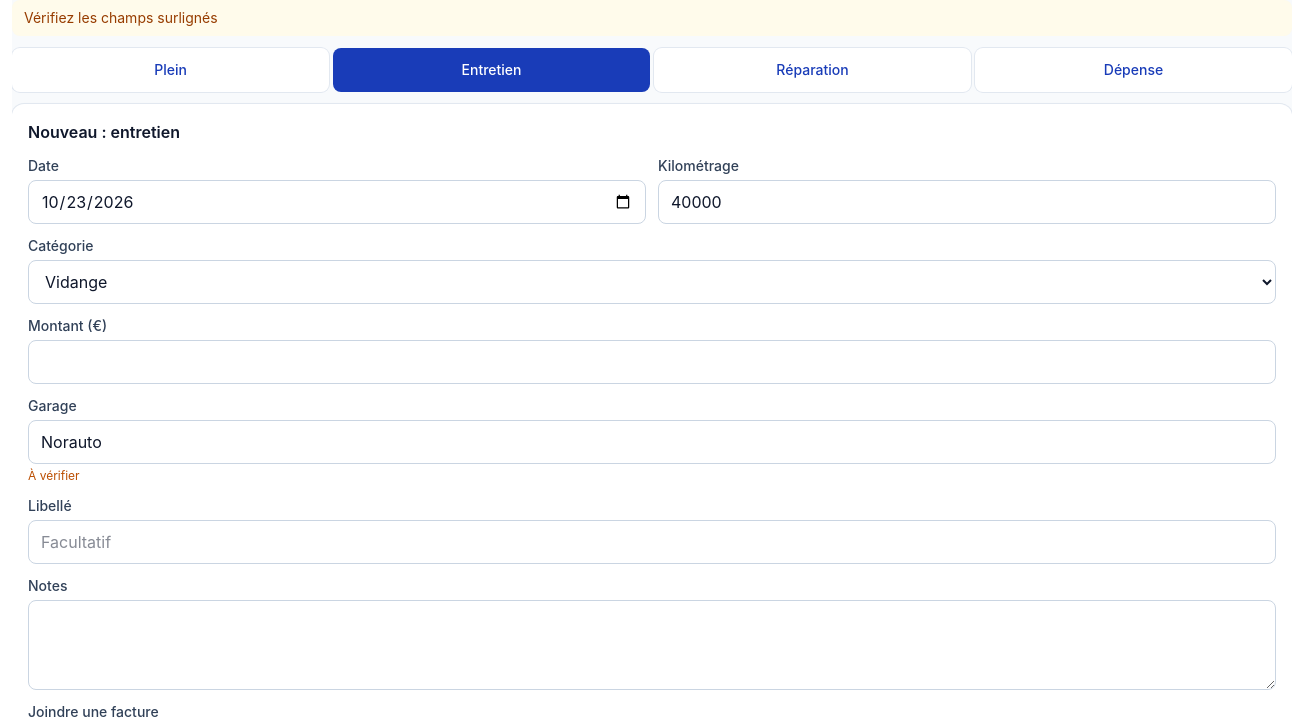
Test: after a scan the guessed type can be changed, keeping the file and the guesses
Expected: the field labelled "Garage" holds "Norauto", [28, 420, 1276, 464]
Click the button "Réparation": (812, 70) [654, 48, 971, 92]
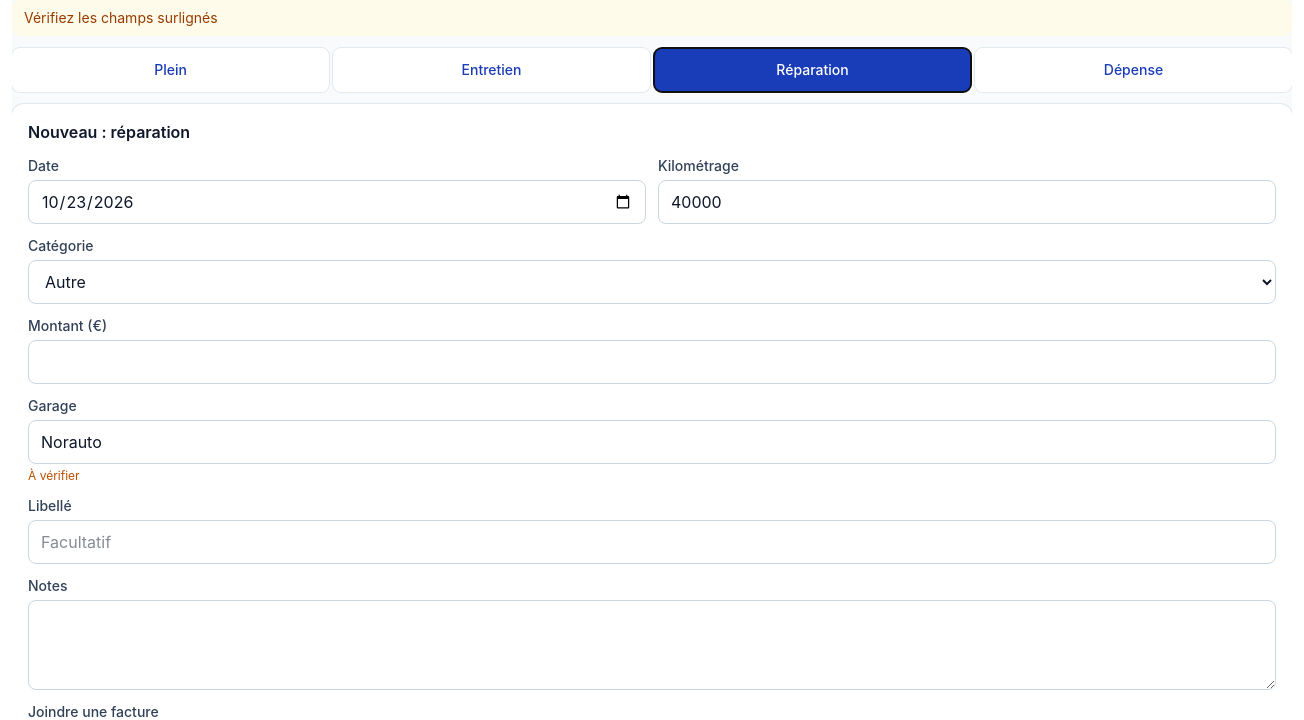
Expected: the field labelled "Garage" holds "Norauto", [28, 420, 1276, 464]
Now the heading "Nouveau : réparation" is shown, box [28, 122, 190, 142]
Click the button "Plein": (170, 70) [12, 48, 329, 92]
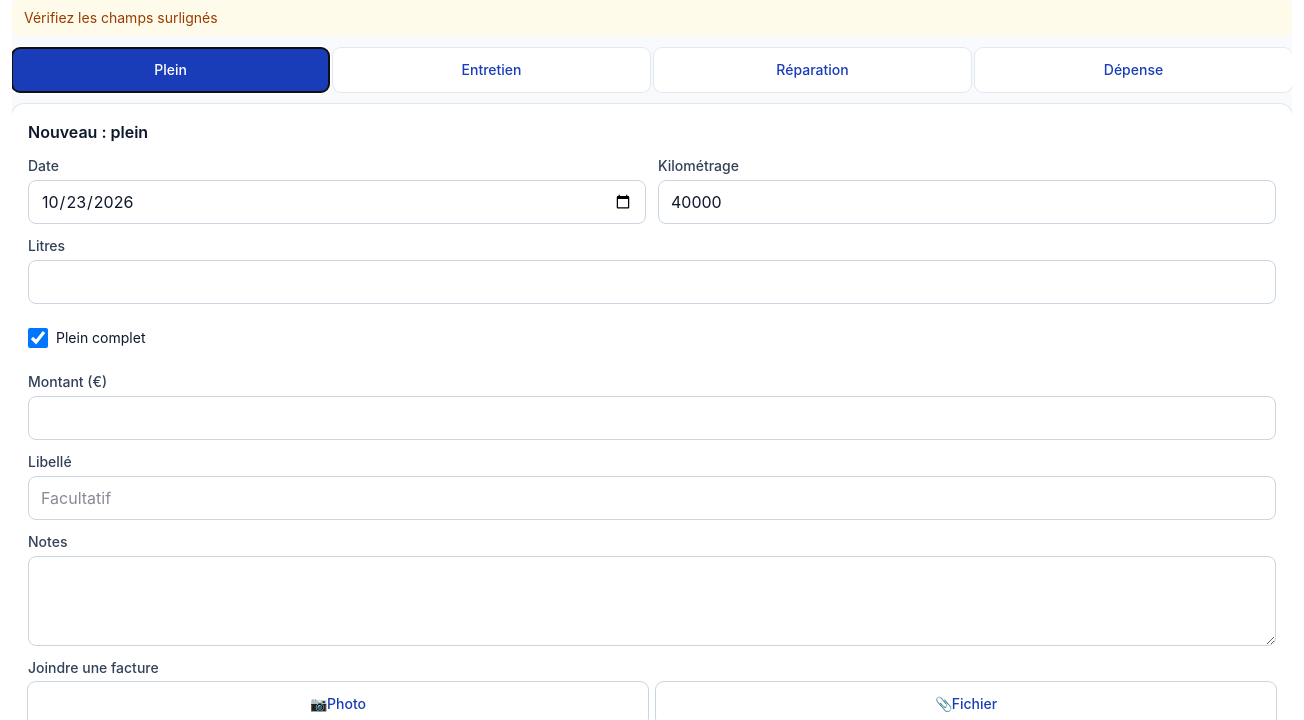
Now the field labelled "Litres" is shown, box [28, 260, 1276, 304]
